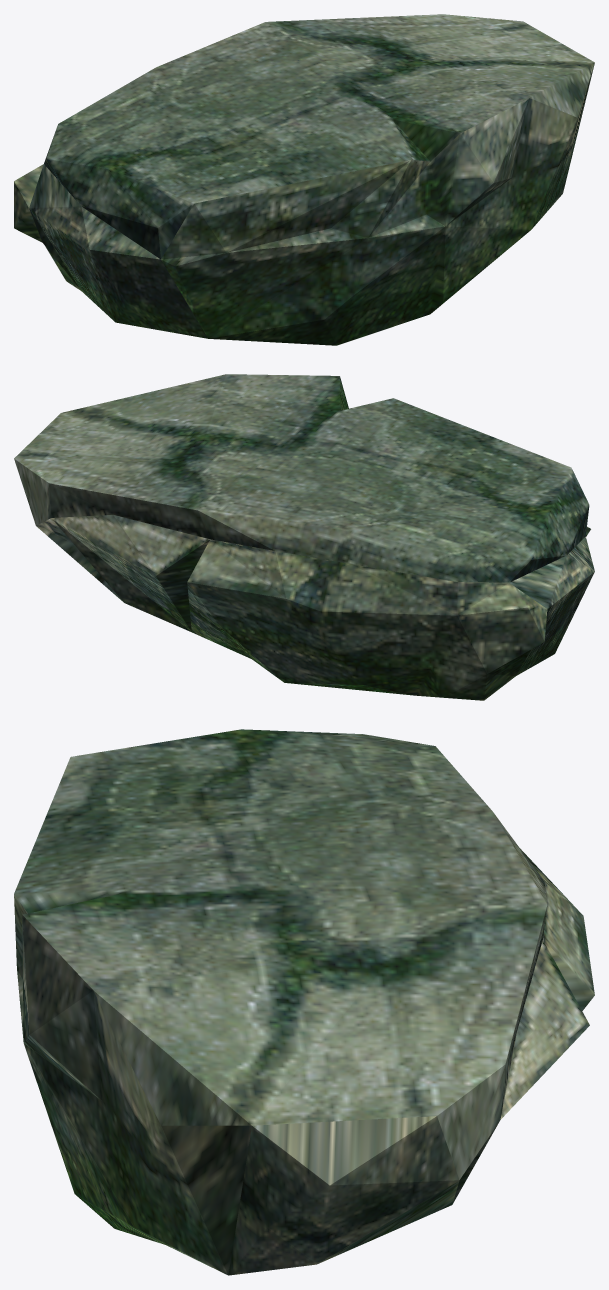
File: lianqizong_shitou06_st.FBX
The picture shows the model from 3 angles, top to bottom: view 1: azimuth 30°, elevation 25°; view 2: azimuth 150°, elevation 25°; view 3: azimuth 270°, elevation 25°; orthographic projection. The views are drawn at different scales.
Parts seen in each view (by area): view 1: lianqizong_shitou06_st_A; view 2: lianqizong_shitou06_st_A; view 3: lianqizong_shitou06_st_A.
Part boxes in pixels (x1=…): lianqizong_shitou06_st_A: x1=14, y1=14, x2=594, y2=345; lianqizong_shitou06_st_A: x1=14, y1=374, x2=594, y2=700; lianqizong_shitou06_st_A: x1=14, y1=729, x2=594, y2=1275.
Bounding box in the file's own units: 384 × 138 × 229.
